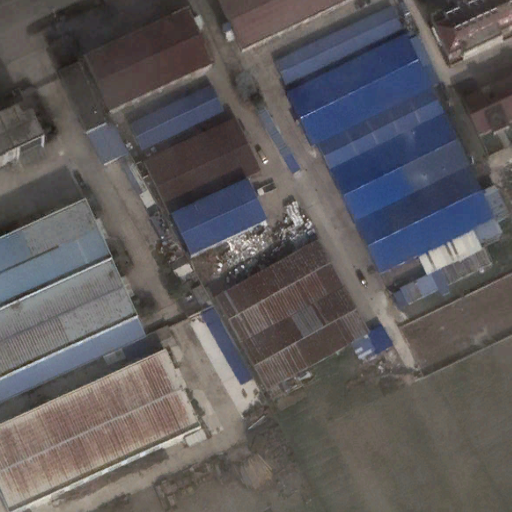msw: (215, 213, 313, 285)
